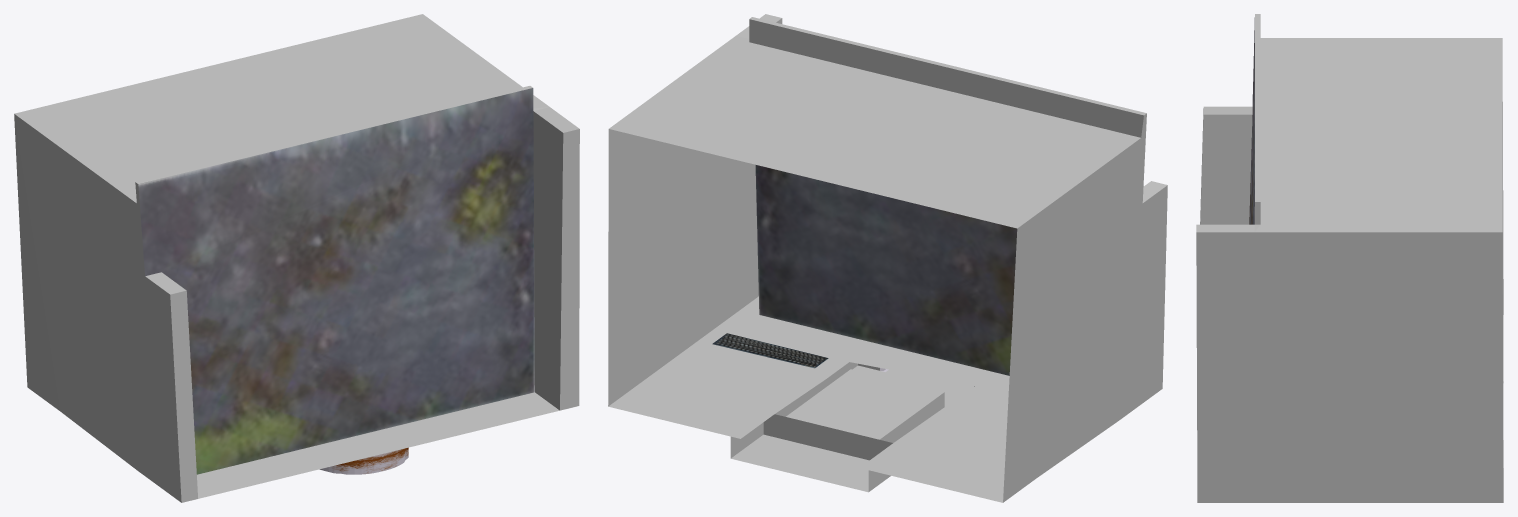
The model's file is Aia_22e-origo.obj.
3 renders of one model, left to right at view 1: azimuth 30°, elevation 25°; view 2: azimuth 150°, elevation 25°; view 3: azimuth 270°, elevation 25°, orthographic. The views are drawn at different scales.
Parts seen in each view (by area): view 1: Aia_22e; view 2: Aia_22e; view 3: Aia_22e.
Boxes of the visible parts, left/top/right/bottom form: Aia_22e: left=14, top=14, right=579, bottom=502; Aia_22e: left=608, top=14, right=1167, bottom=502; Aia_22e: left=1196, top=14, right=1503, bottom=502.
Size of the model in its own units: 9.31 by 7 by 6.17.
